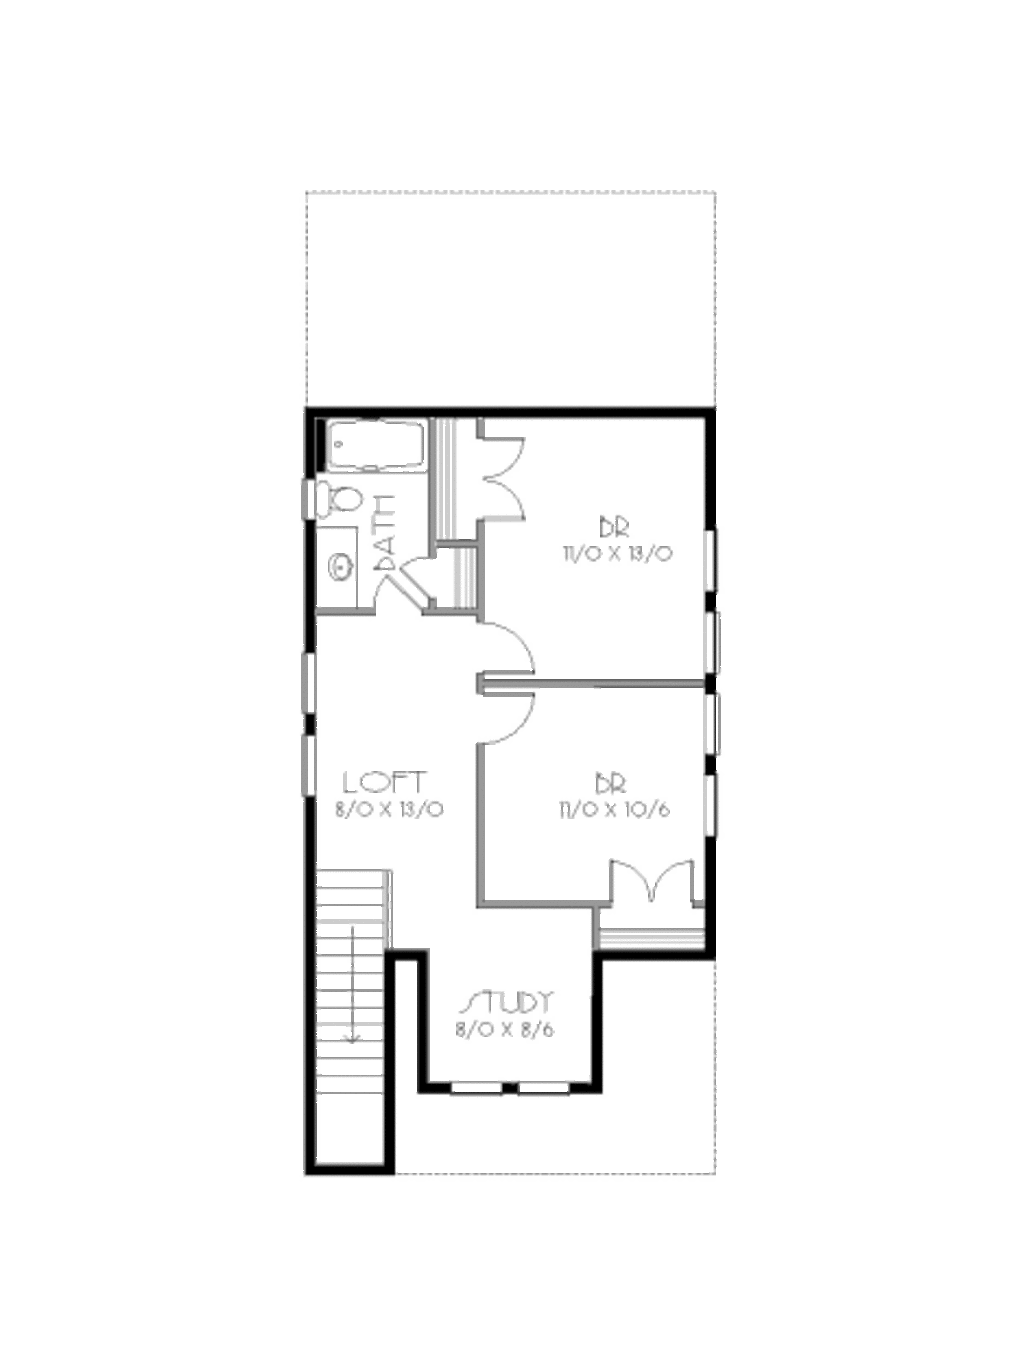door: (598, 842, 703, 909), (482, 433, 538, 525), (469, 682, 540, 750), (477, 615, 544, 677)
large_sink: (303, 477, 378, 525)
small_sink: (307, 525, 365, 607)
stairs: (301, 863, 409, 1177)
tub: (326, 417, 447, 477)
window: (698, 688, 728, 774), (692, 773, 728, 834), (698, 615, 728, 682), (515, 1073, 569, 1107), (294, 655, 321, 715), (703, 527, 726, 598), (457, 1075, 504, 1101), (298, 733, 311, 802)
